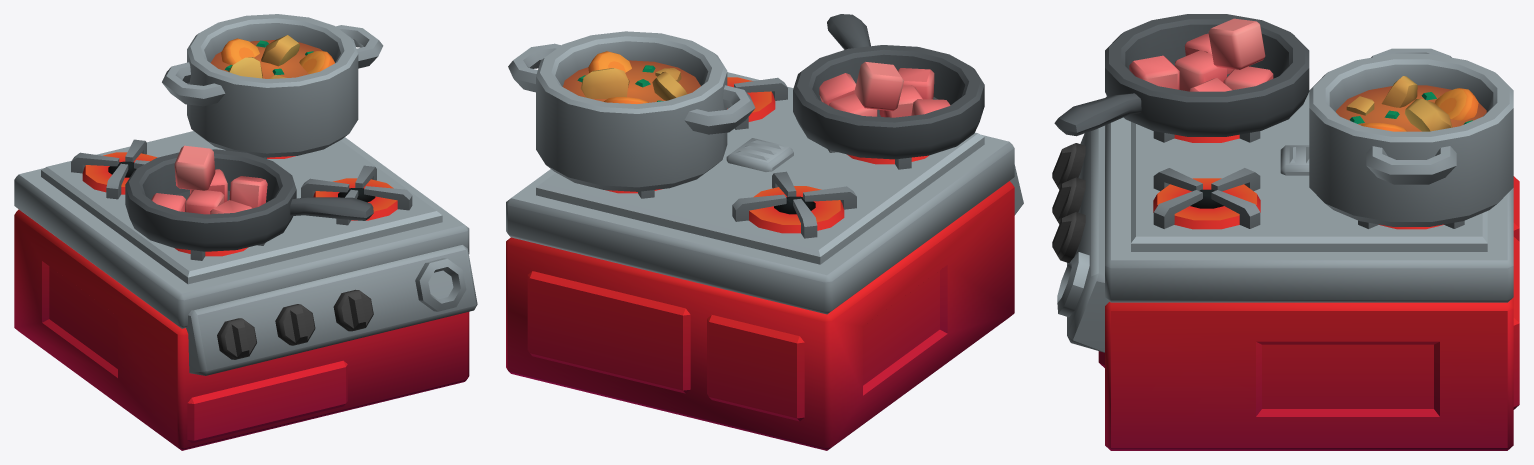
Rendered from stove_multi_decorated.glb.
3 views of the same model, side by side, from view 1: azimuth 30°, elevation 25°; view 2: azimuth 150°, elevation 25°; view 3: azimuth 270°, elevation 25° (orthographic). The views are drawn at different scales.
Parts seen in each view (by area): view 1: stove_multi_decorated; view 2: stove_multi_decorated; view 3: stove_multi_decorated.
Boxes of the visible parts, <box> form: stove_multi_decorated: <box>14,14,477,450</box>; stove_multi_decorated: <box>506,14,1023,450</box>; stove_multi_decorated: <box>1052,14,1519,450</box>.
Bounding box in the file's own units: 2.2 × 1.72 × 2.29.
Materials: 1 (1 with a texture image).
